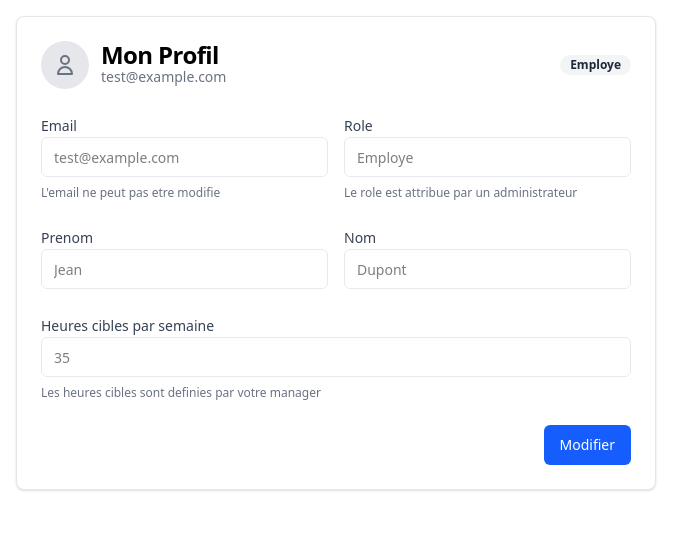
Test case: ProfilePage › Validation - AC4 › shows error when first name is empty
This screenshot has width=673, height=536.
Expected: the heading "Mon Profil" is shown, [101,43,226,67]
Click the button "Modifier".
click(587, 445)  # box [544,425,631,465]
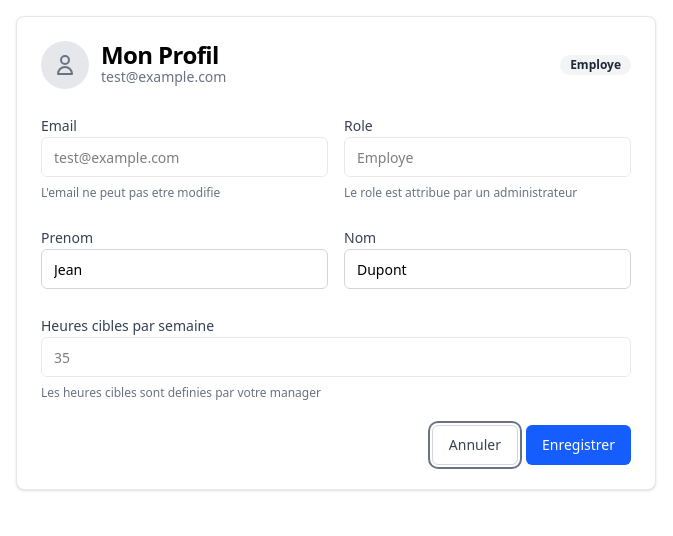
Clear the field labelled "Prenom" at (184, 269), box [41,249,328,289]
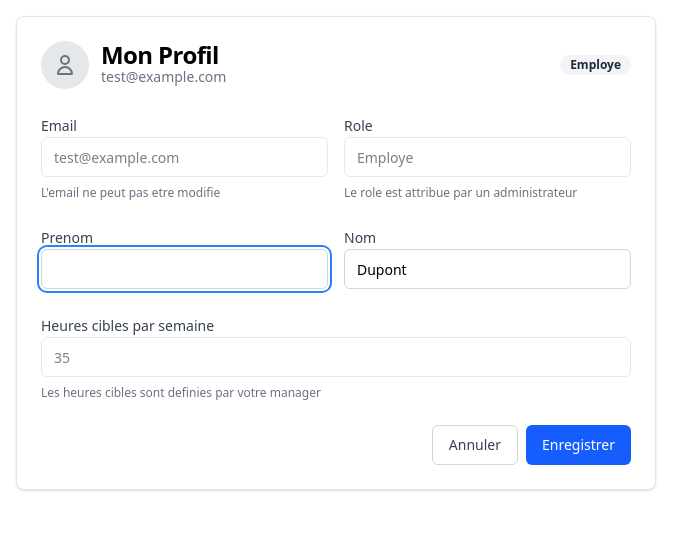
Click the button "Enregistrer".
click(578, 445)  # box [526,425,631,465]
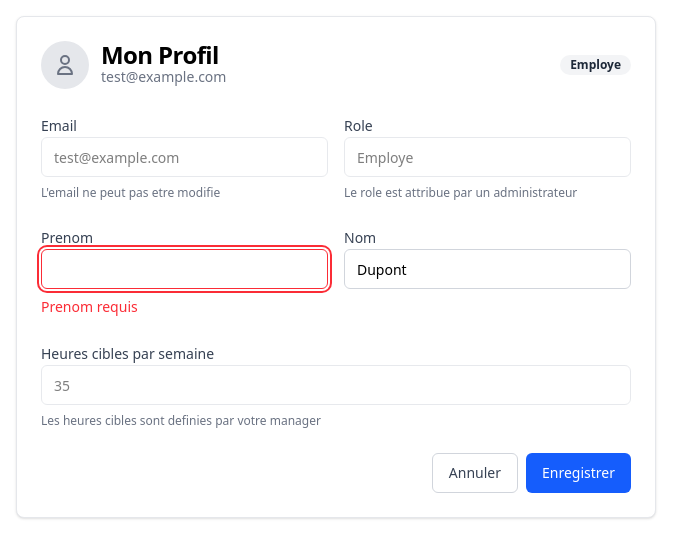
Expected: the text "Prenom requis" is shown, [41,297,138,316]
